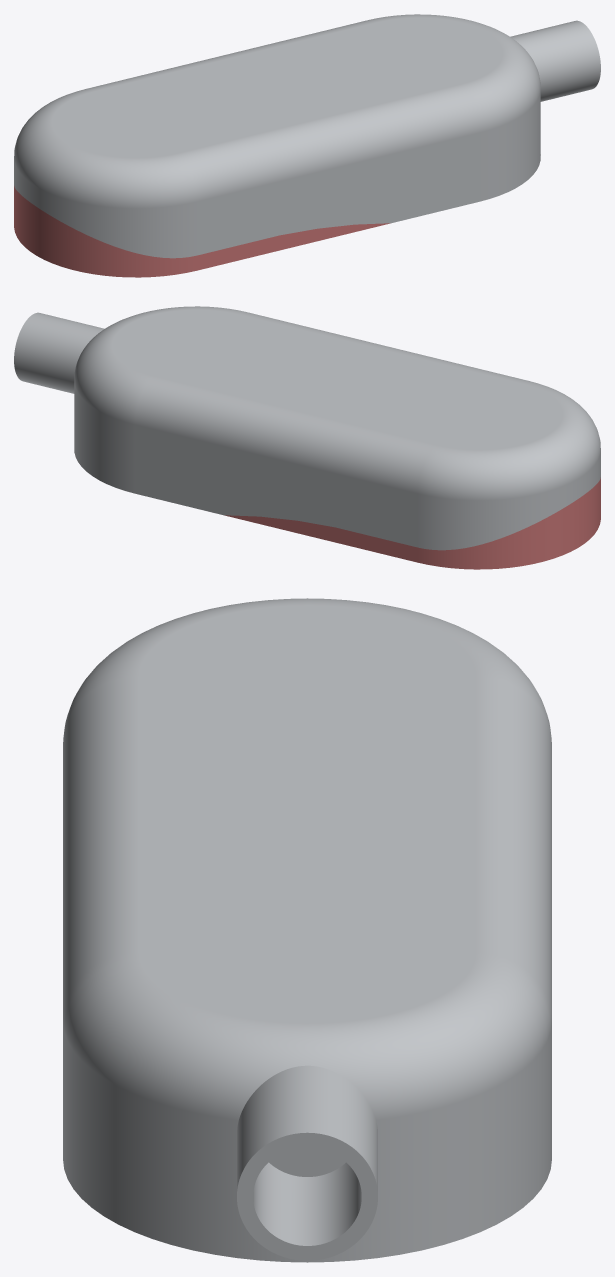
File: step_11.glb
3 renders of one model, top to bottom at view 1: azimuth 30°, elevation 25°; view 2: azimuth 150°, elevation 25°; view 3: azimuth 270°, elevation 25°, orthographic. The views are drawn at different scales.
Parts seen in each view (by area): view 1: part__engine cowling, removed__engine cowling; view 2: part__engine cowling, removed__engine cowling; view 3: part__engine cowling.
Boxes of the visible parts, <box> form: part__engine cowling: <box>14,14,600,258</box>; removed__engine cowling: <box>14,186,390,277</box>; part__engine cowling: <box>14,306,600,550</box>; removed__engine cowling: <box>224,477,600,569</box>; part__engine cowling: <box>63,598,551,1262</box>.
Bounding box in the file's own units: 2350 × 420 × 900.
